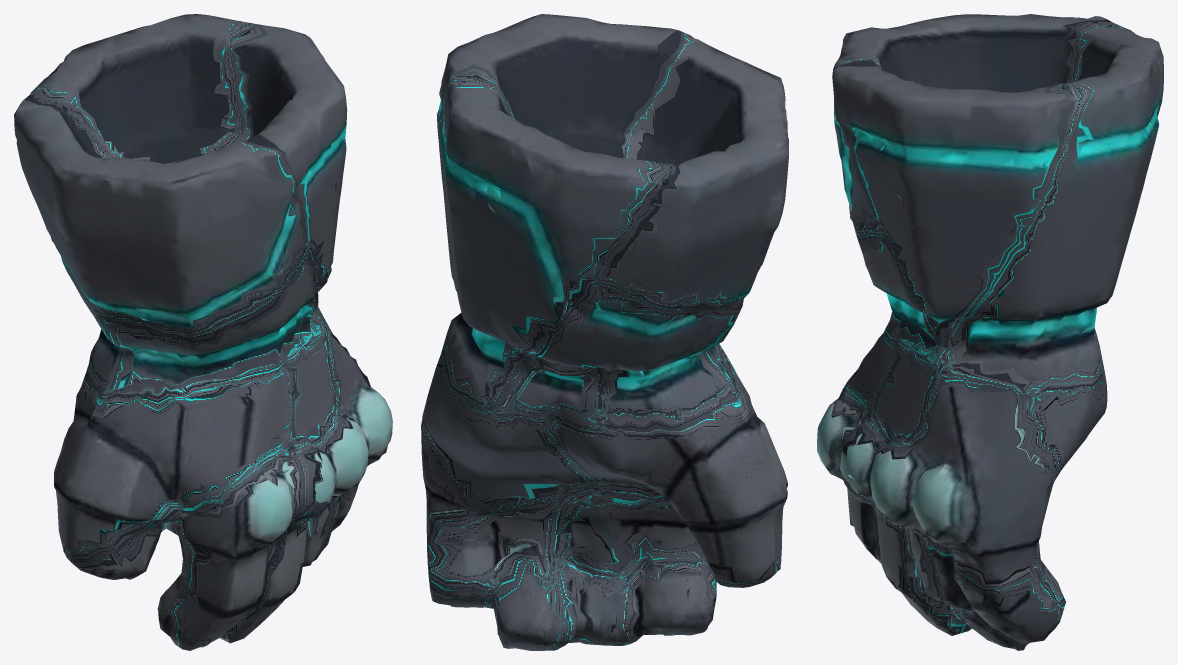
Rendered from vanguard_glove_A.glb.
3 renders of one model, left to right at view 1: azimuth 30°, elevation 25°; view 2: azimuth 150°, elevation 25°; view 3: azimuth 270°, elevation 25°, orthographic. The views are drawn at different scales.
Bounding box in the file's own units: 0.1863 × 0.2996 × 0.1631.
Materials: 1 (1 with a texture image).
